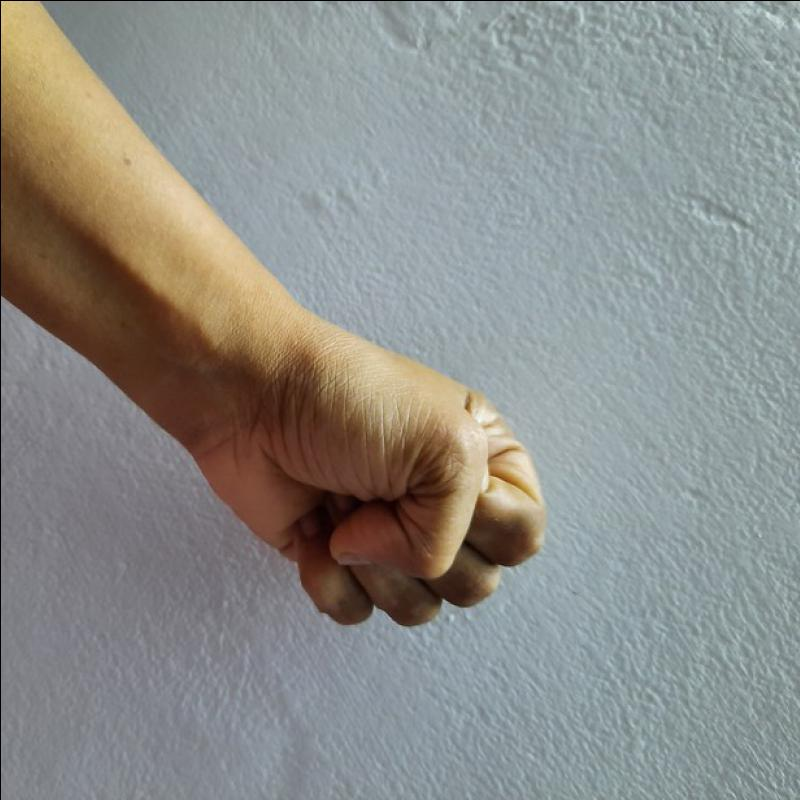Mushti: (199, 298, 554, 655)
